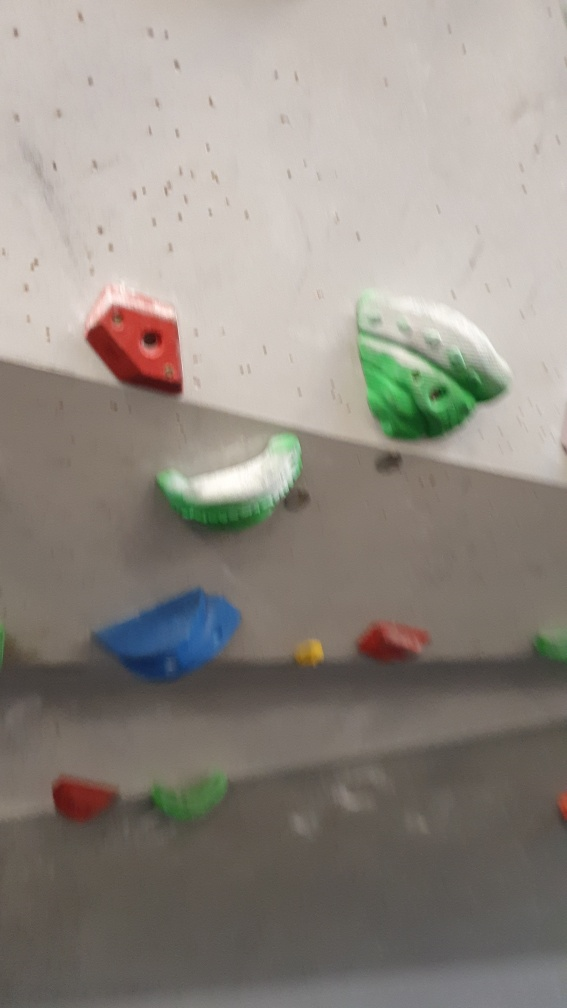Crimp: (83, 279, 187, 399)
Hand Start: (279, 480, 313, 518), (370, 446, 403, 476)
Jug: (351, 282, 513, 450), (142, 429, 313, 535)
Pinch: (89, 585, 245, 689)
